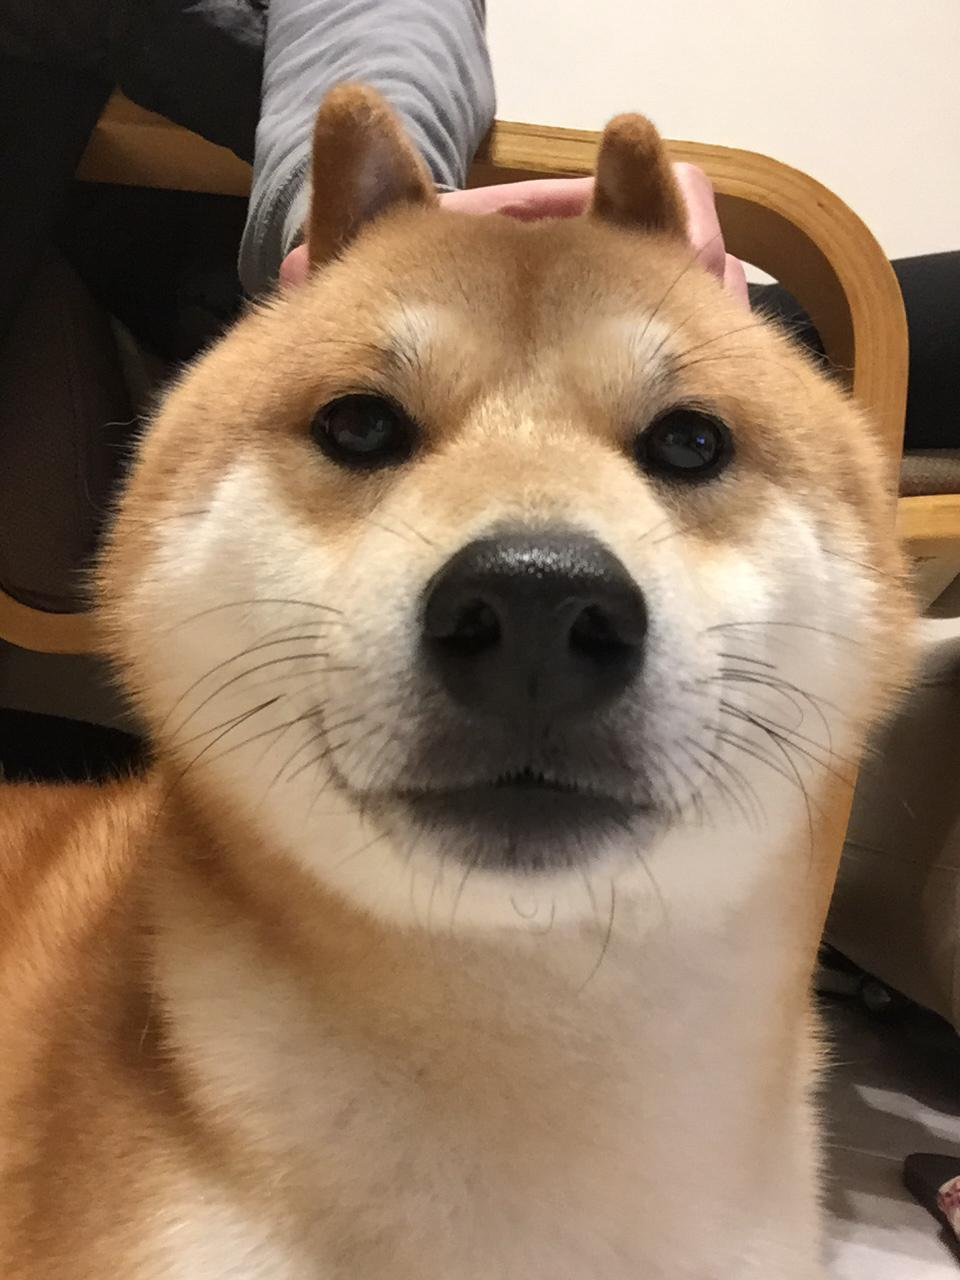dog: (1, 120, 914, 1280)
